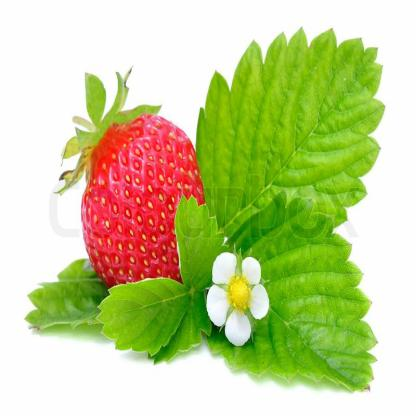strawberry leaf: (191, 22, 386, 250), (213, 193, 378, 397), (99, 273, 195, 352), (174, 187, 223, 303)
